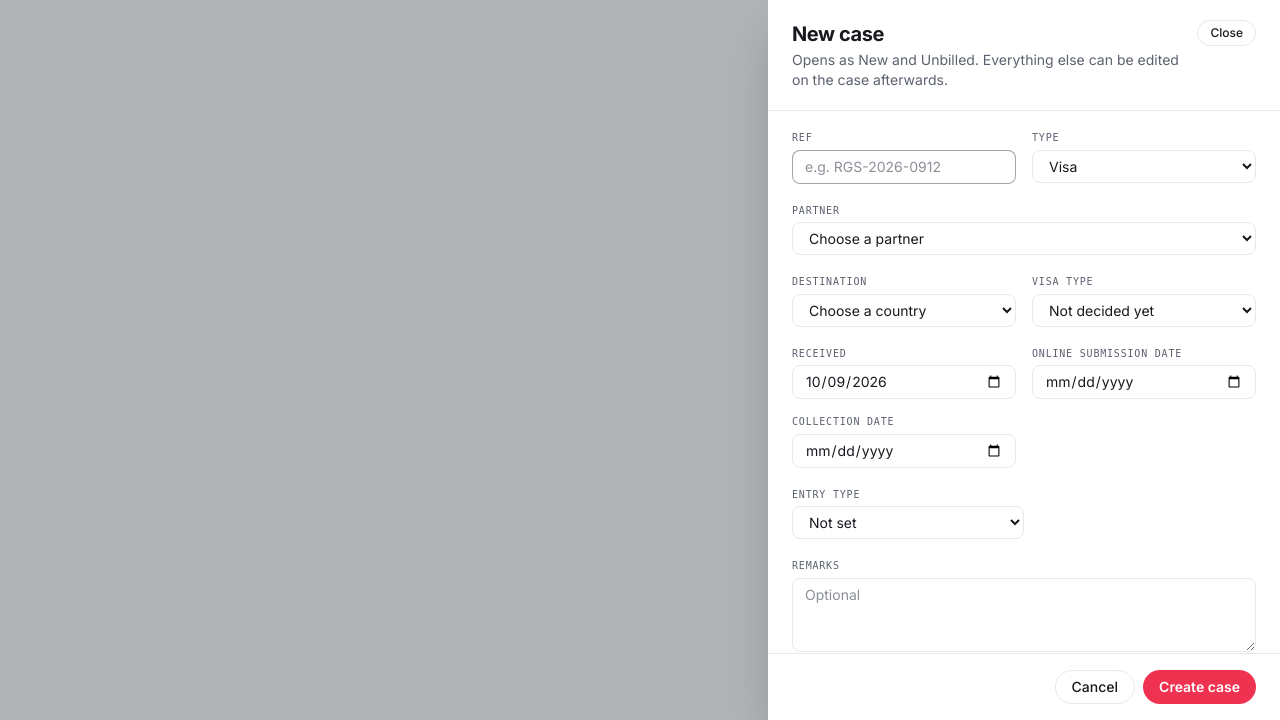
NewCaseDrawer › refuses to submit until every required field is filled, naming the first gap
This screenshot has width=1280, height=720.
Click the button "Create case". click: (1200, 687)
box: top-left (1143, 670), bottom-right (1256, 704)
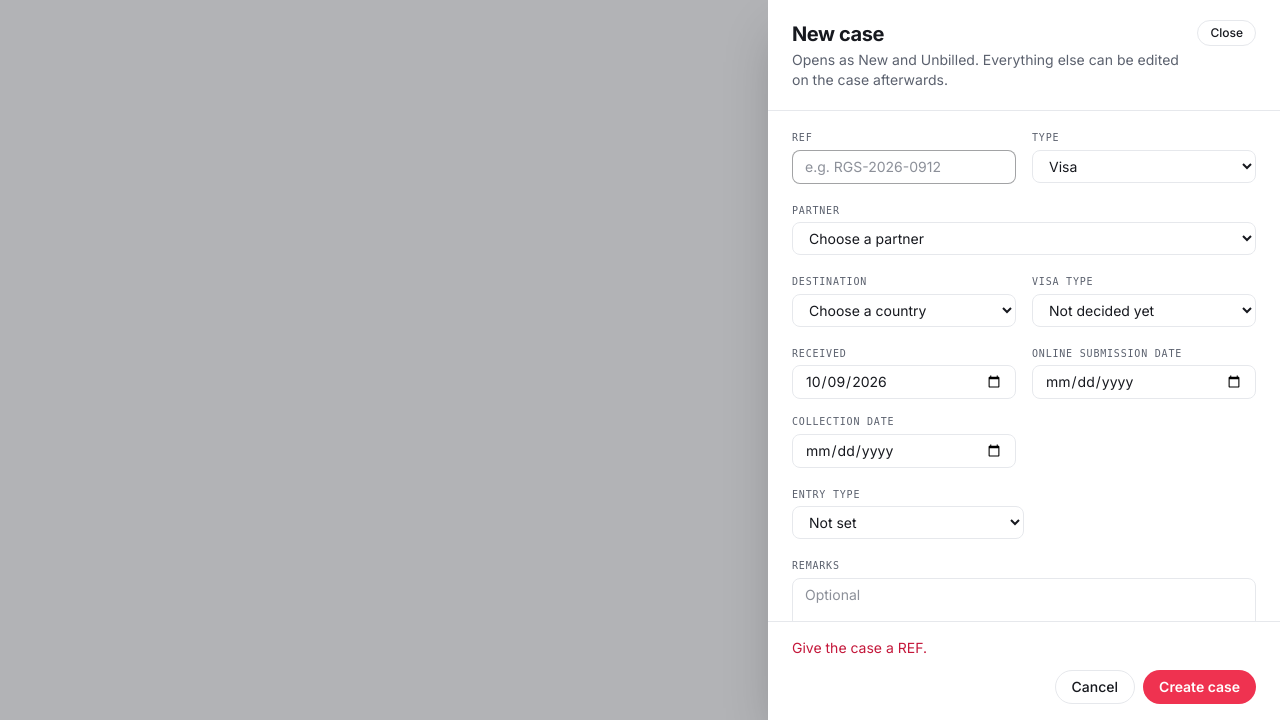
Result: the message reads "Give the case a REF." at top-left (792, 639), bottom-right (927, 656)
